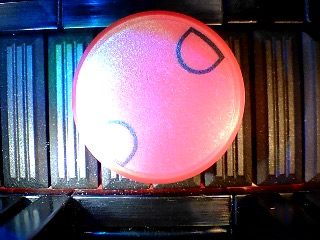MIPO2: (72, 10, 246, 185)
